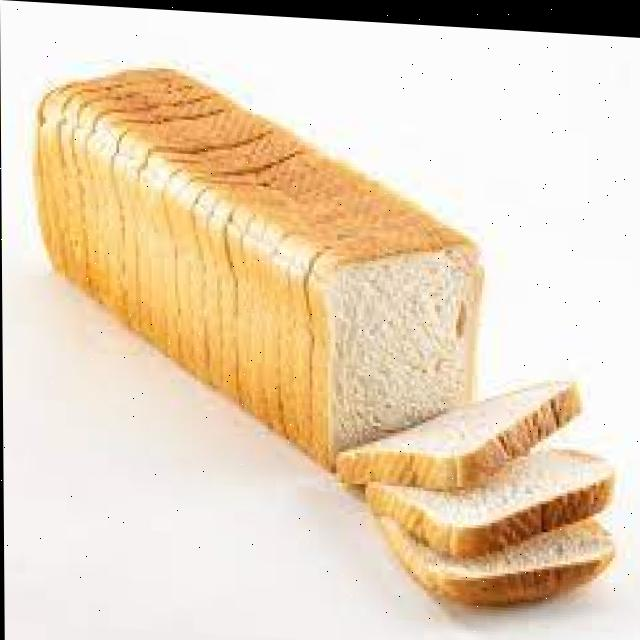Bread: (366, 443, 613, 551), (336, 377, 577, 485), (379, 510, 612, 599)
